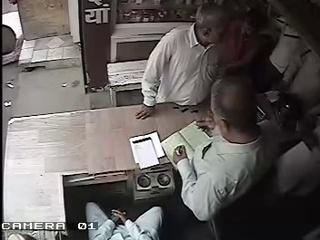Normal: (173, 76, 316, 238), (134, 3, 230, 125), (85, 202, 163, 239)
